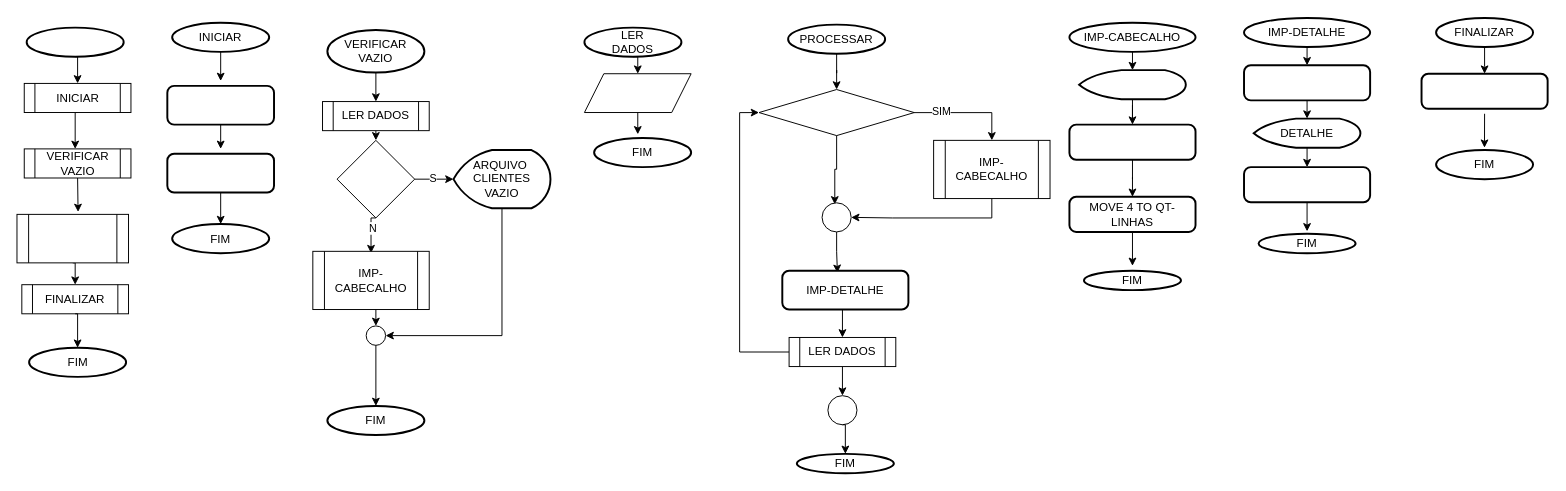
Some shapes in this 1566 by 491 pixel diagram are drawn without their labels. The shapes that lost their labels are listed below. From the top down, each one's centre as x and y in pixels, then its label:
the point at 74,41: INICIO
the point at 637,93: LER CLIENTES
the point at 1132,84: CABECALHO
the point at 1307,82: MOVE CLIENTES PARA DETALHE
the point at 1484,90: FECHAR CLIENTE
the point at 220,104: ABRIR CLIENTES
the point at 836,112: QT-LINHAS > 12
the point at 1132,141: ADICIONAR 1 TO WRK-PAG
the point at 220,172: QT-LINHAS = 0 WRK-PAG = 1
the point at 375,178: EOF
the point at 1307,184: QT-LINHAS + 1
the point at 72,238: PROCESSAR até EOF de CLIENTES
